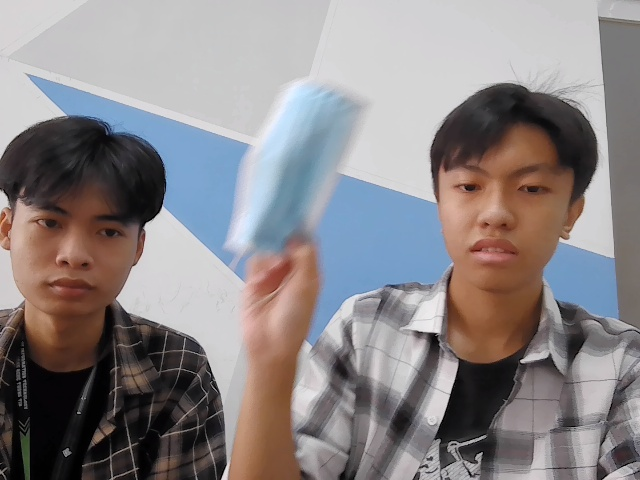human: (426, 72, 601, 291), (1, 116, 160, 334)
mask: (226, 67, 362, 278)
